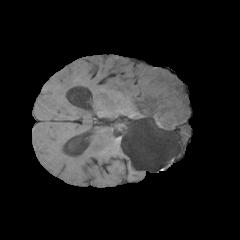glioma: (103, 66, 188, 153)
